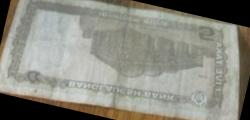5 taka: (18, 0, 233, 109)
